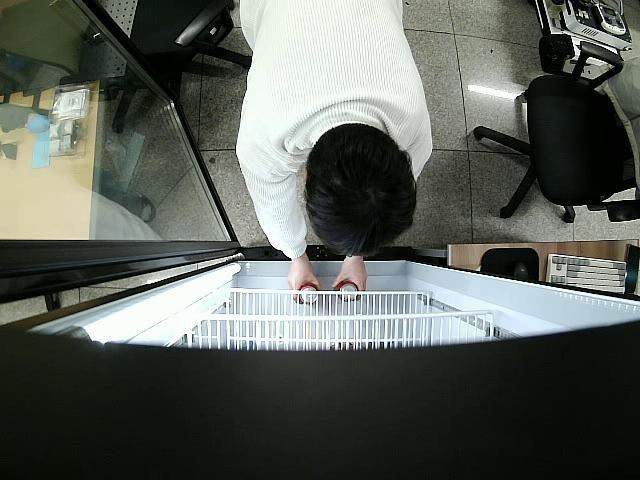11_cocaColaZero: (334, 279, 360, 303), (296, 282, 320, 304)
